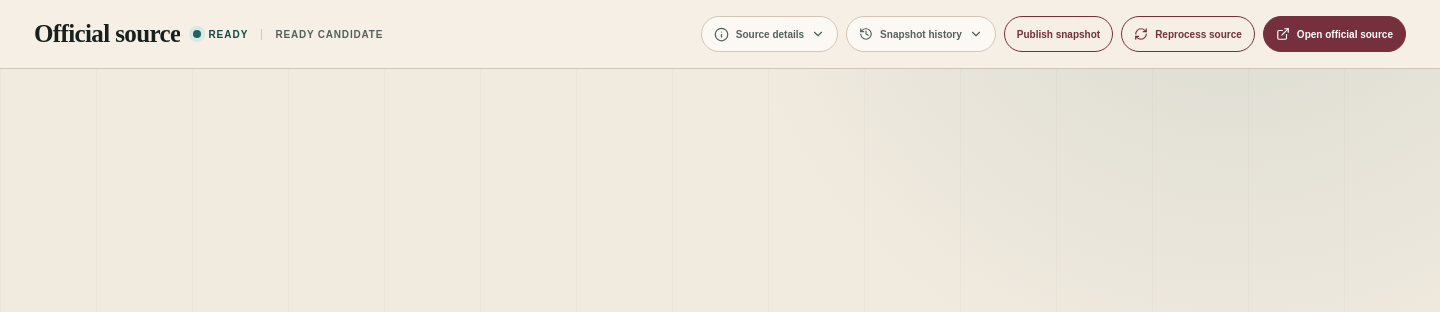
Test: source lifecycle status › asks the researcher to reload after a stale publication attempt
Click the button "Publish snapshot": (1058, 34) [1004,16,1113,52]
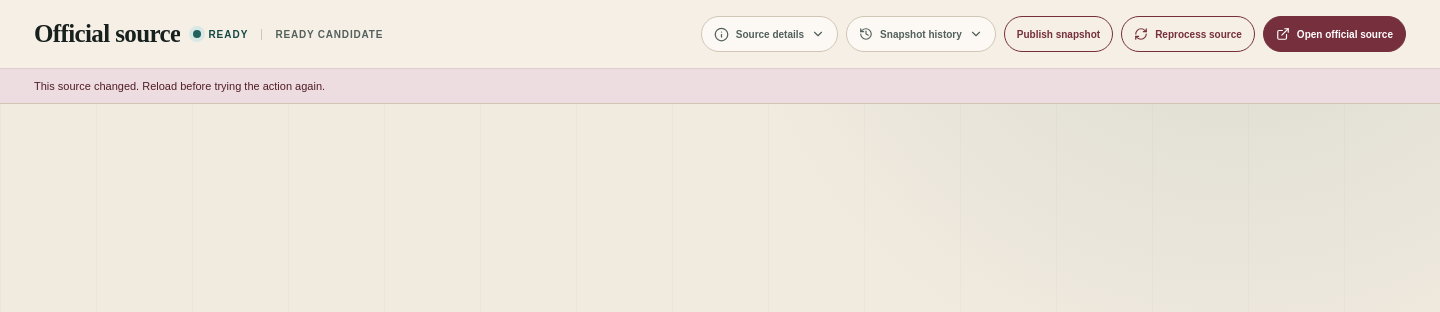
Result: the message reads "This source changed. Reload before trying the action again." at [34,80,325,92]
